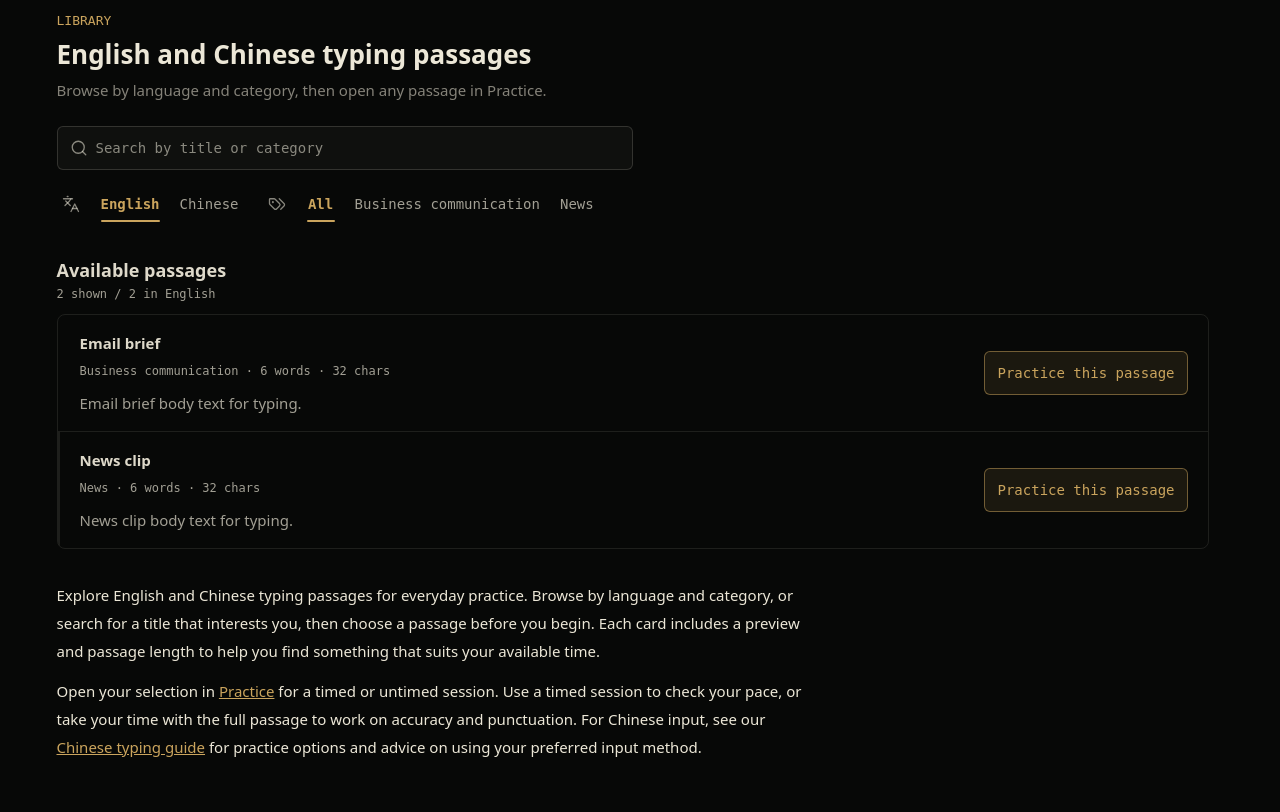
Test: PassagesPage › searches result titles and categories without changing passage metadata
The image size is (1280, 812).
Check: the heading "Email brief" is shown, box left=80, top=331, right=160, bottom=355
In the search field named "Search passages": (358, 148) left=96, top=138, right=620, bottom=158, type "news"
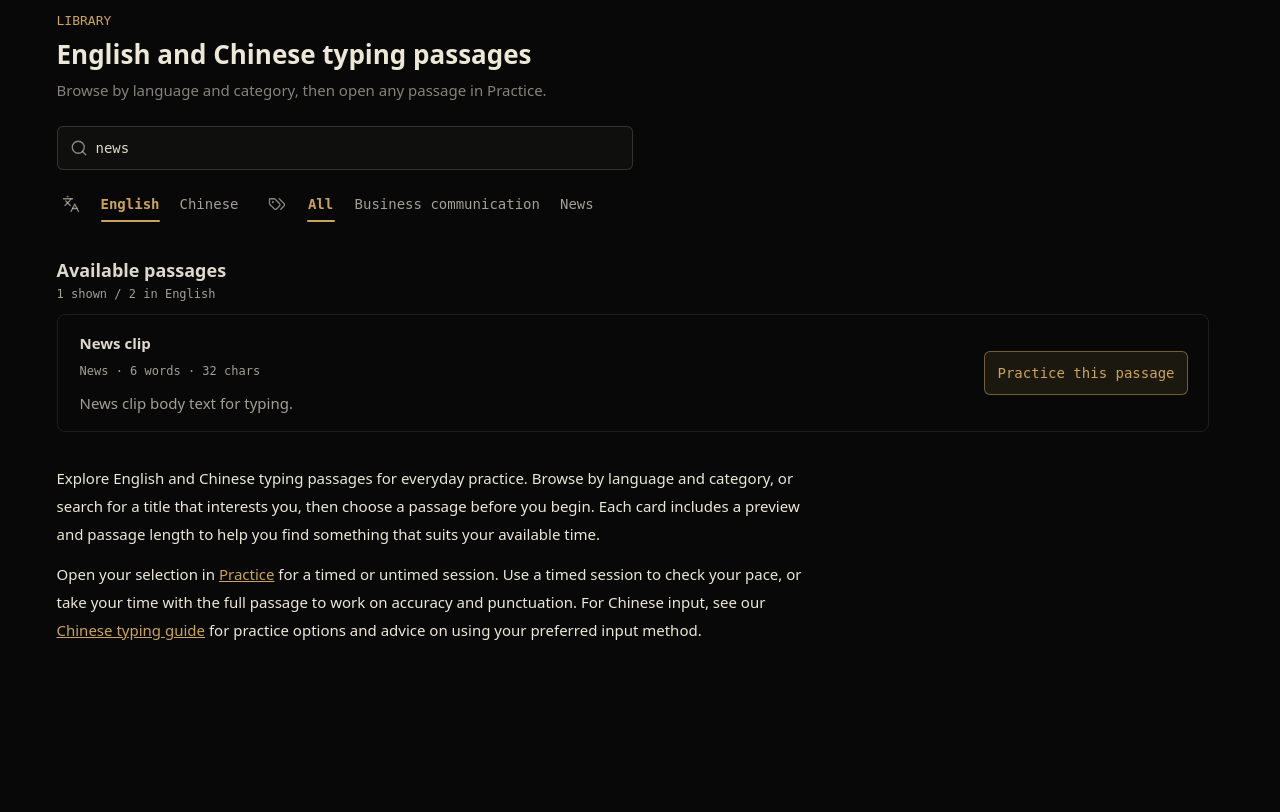
Check: the heading "News clip" is shown, box left=80, top=331, right=151, bottom=355
Check: the heading "Email brief" is gone
Replace the text in the search field named "Search passages" with "business communication": (358, 148) left=96, top=138, right=620, bottom=158
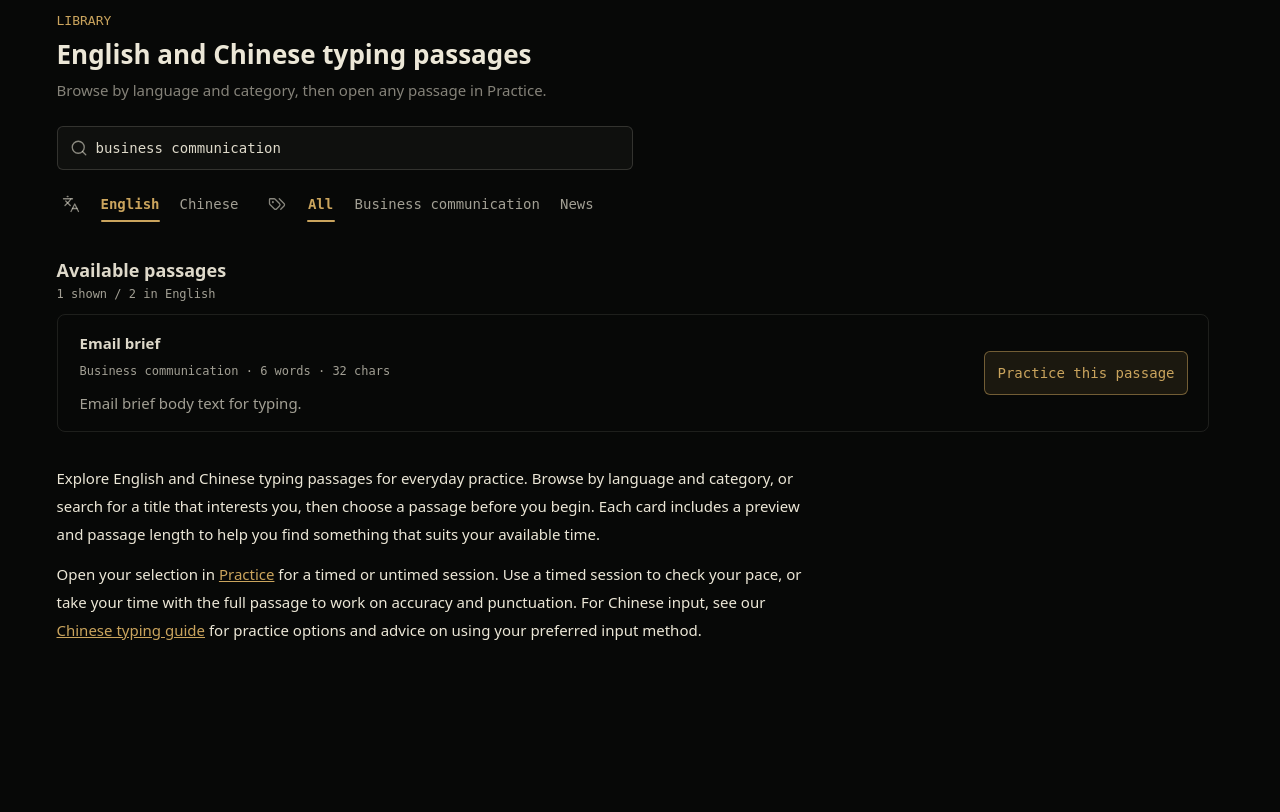
Check: the heading "Email brief" is shown, box left=80, top=331, right=160, bottom=355
Check: the heading "News clip" is gone
